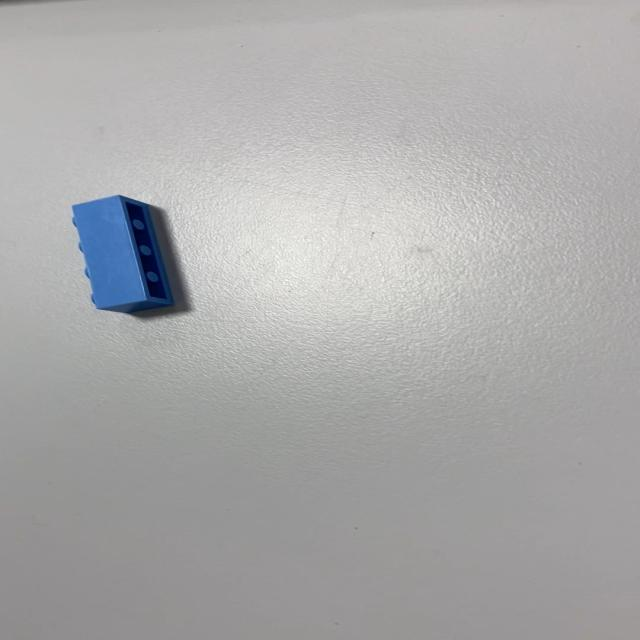C4x1x1: (70, 194, 176, 314)
